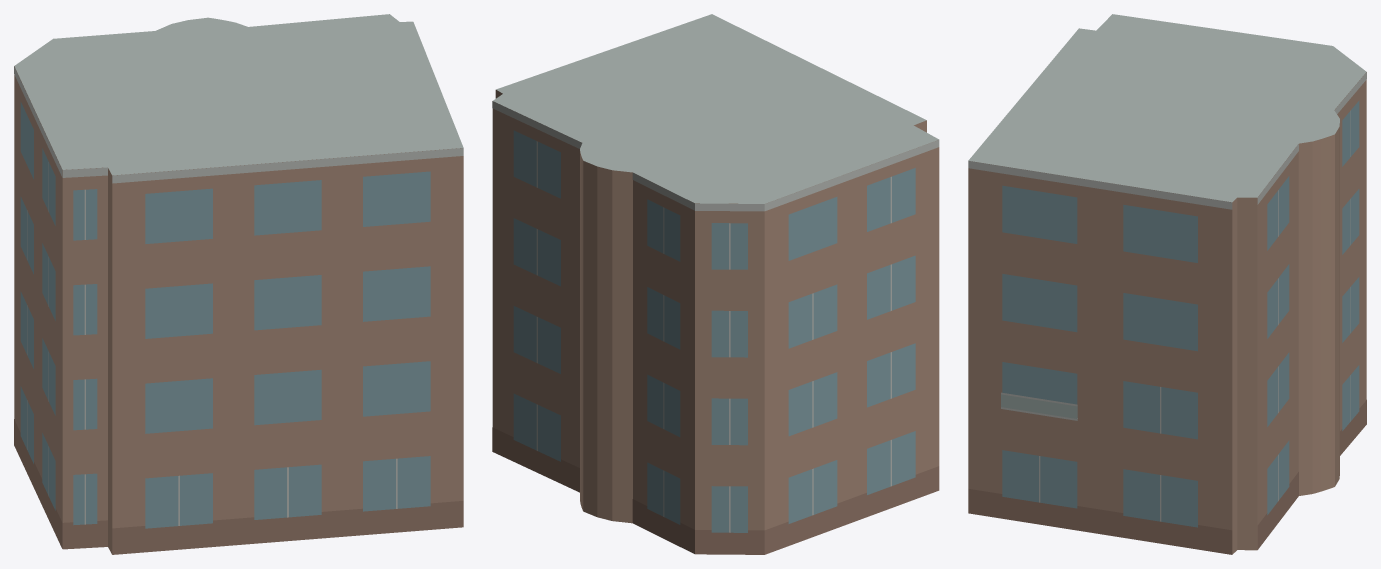
Rendered from survey-upis-32994850.glb.
3 views of the same model, side by side, from view 1: azimuth 30°, elevation 25°; view 2: azimuth 150°, elevation 25°; view 3: azimuth 270°, elevation 25° (orthographic). The views are drawn at different scales.
Visible parts, largest first — view 1: survey-upis-32994850.tmp; view 2: survey-upis-32994850.tmp; view 3: survey-upis-32994850.tmp.
Part boxes in pixels (x1,y1,x2,y2): survey-upis-32994850.tmp: [14, 14, 463, 554]; survey-upis-32994850.tmp: [492, 14, 939, 554]; survey-upis-32994850.tmp: [968, 14, 1366, 554].
Size of the model in its own units: 13.18 by 11.5 by 11.79.
